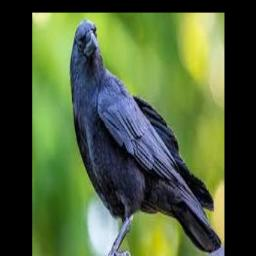Crow: (69, 18, 221, 256)
